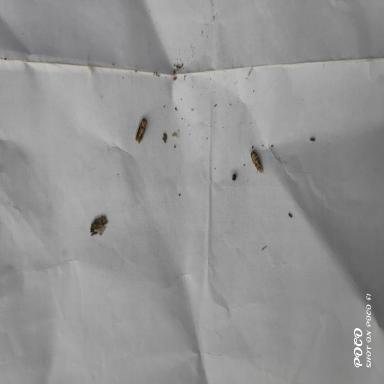pbw: (250, 150, 265, 174), (135, 118, 147, 143)
